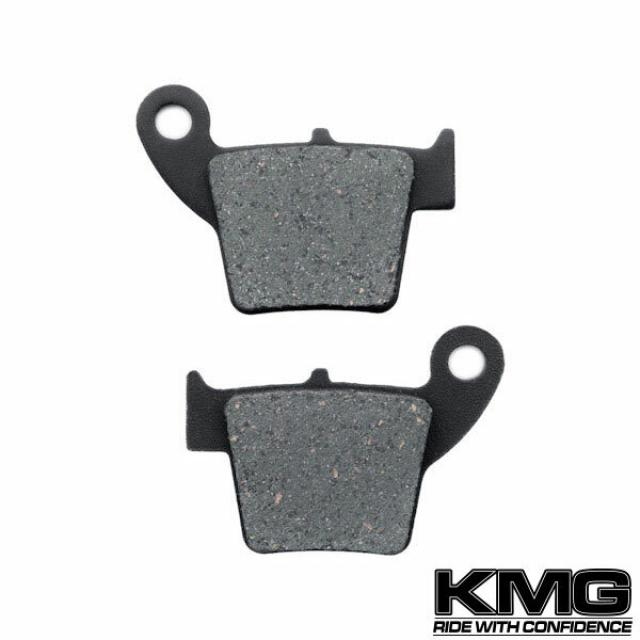brake_pad: (133, 73, 464, 321), (182, 320, 508, 557)
